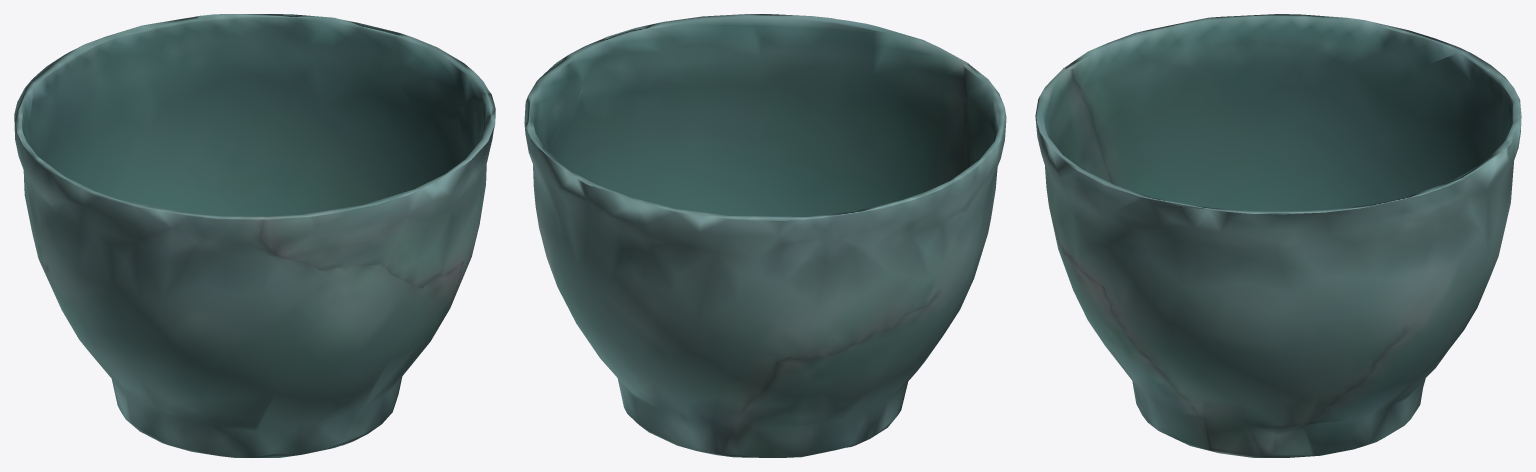
File: Ecoforms_Plant_Container_FB6_Tur-medium.glb
The picture shows the model from 3 angles, left to right: view 1: azimuth 30°, elevation 25°; view 2: azimuth 150°, elevation 25°; view 3: azimuth 270°, elevation 25°; orthographic projection.
Parts seen in each view (by area): view 1: Ecoforms_Plant_Container_FB6_Tur; view 2: Ecoforms_Plant_Container_FB6_Tur; view 3: Ecoforms_Plant_Container_FB6_Tur.
Part boxes in pixels (box(x1,y1,x2,y2)): Ecoforms_Plant_Container_FB6_Tur: box(14, 14, 495, 457); Ecoforms_Plant_Container_FB6_Tur: box(524, 14, 1006, 457); Ecoforms_Plant_Container_FB6_Tur: box(1035, 14, 1521, 457).
Size of the model in its own units: 0.1615 by 0.1082 by 0.1613.
Materials: 1 (1 with a texture image).
